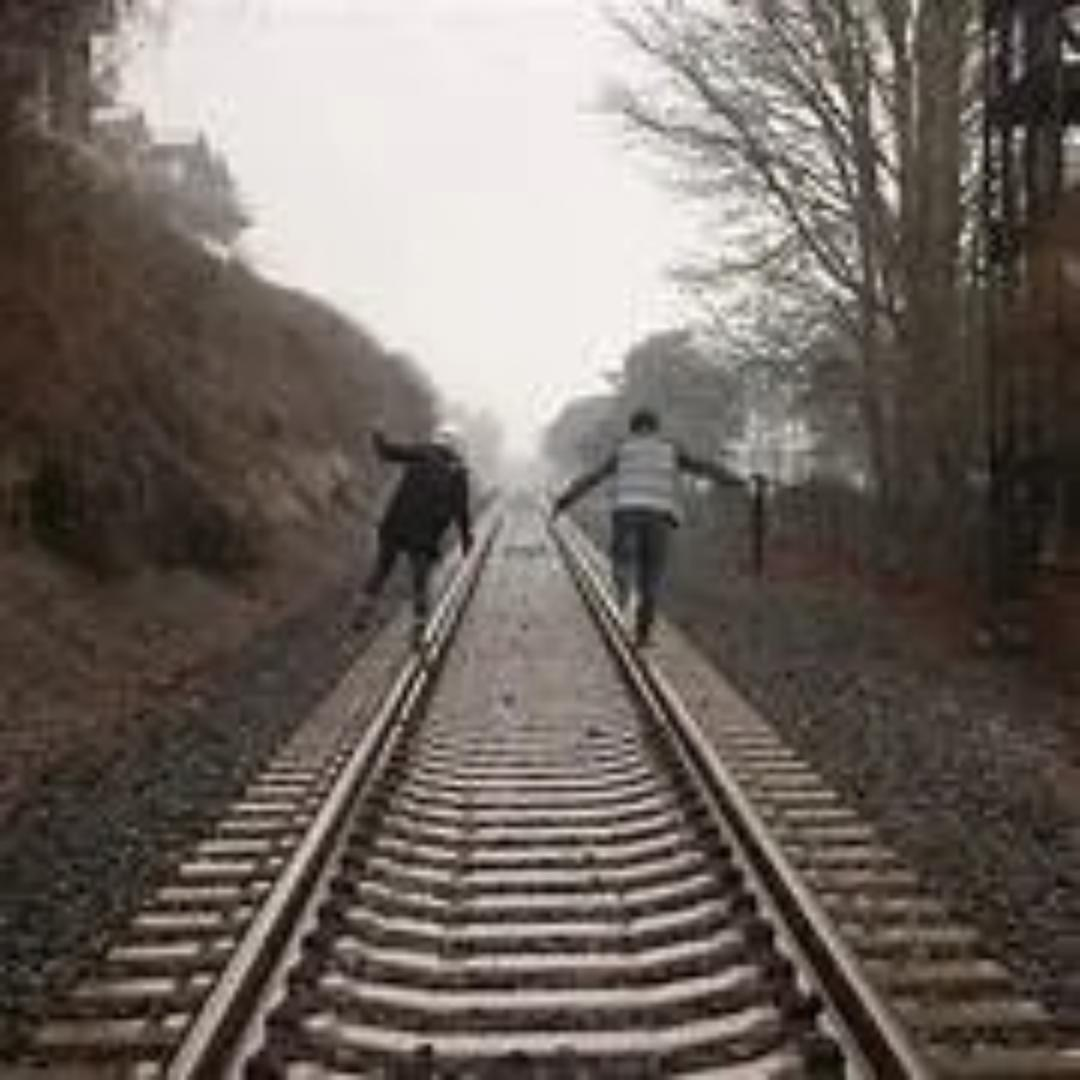standing: (530, 393, 758, 695), (345, 405, 488, 655)
track: (65, 475, 963, 1080)
